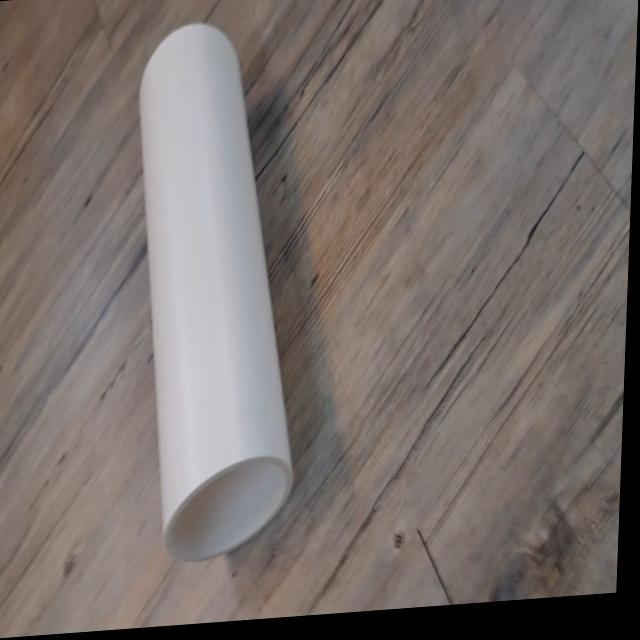CORAL: (113, 6, 316, 576)
